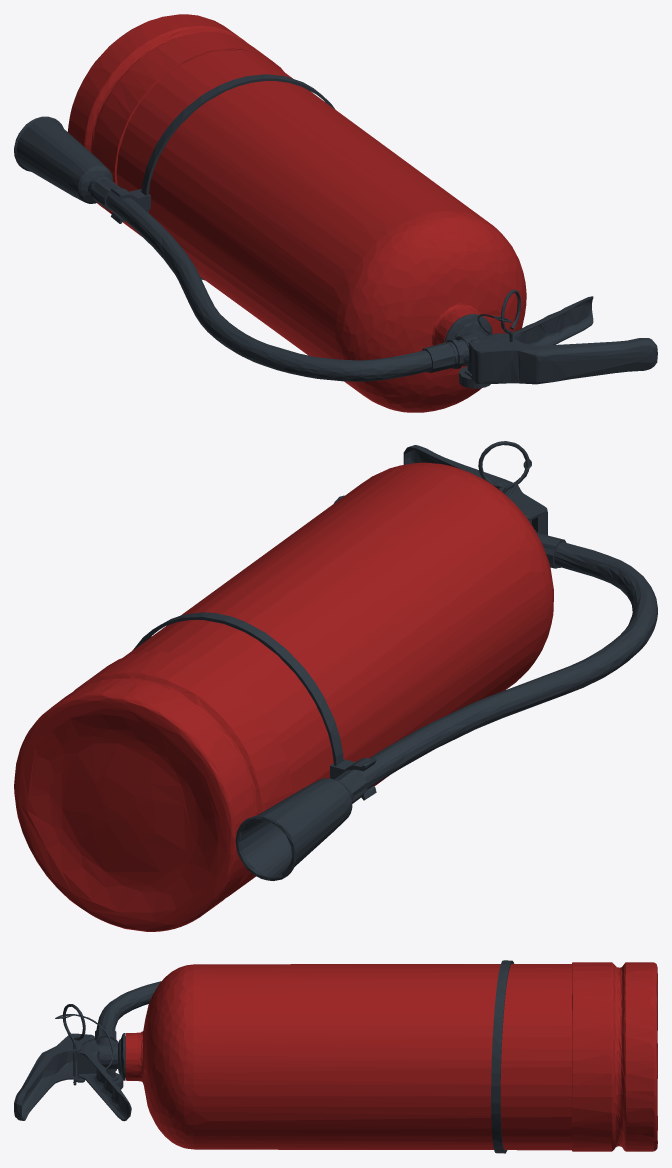
The model's file is miehuoche.glb.
3 views of the same model, one above another, from view 1: azimuth 30°, elevation 25°; view 2: azimuth 150°, elevation 25°; view 3: azimuth 270°, elevation 25° (orthographic). The views are drawn at different scales.
Parts seen in each view (by area): view 1: miehuo; view 2: miehuo; view 3: miehuo.
Boxes of the visible parts, box(x1,y1,x2,y2) form: miehuo: box(14, 14, 657, 412); miehuo: box(14, 441, 657, 931); miehuo: box(14, 960, 657, 1153).
Size of the model in its own units: 0.2552 by 0.157 by 0.524.
2 materials, 2 textured.
